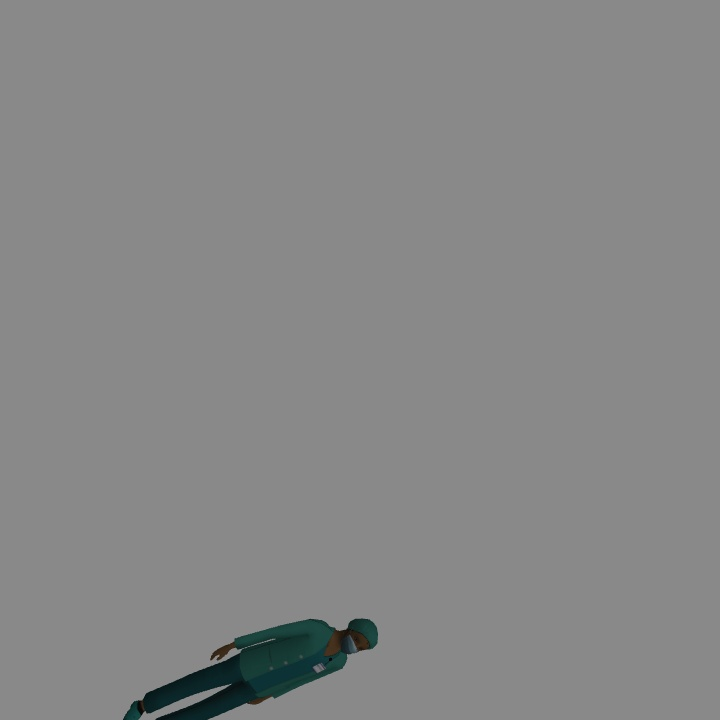victim: (122, 618, 380, 718)
